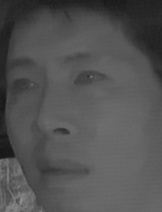eye: (71, 67, 107, 92), (7, 76, 40, 96)
mouth: (33, 152, 91, 189)
